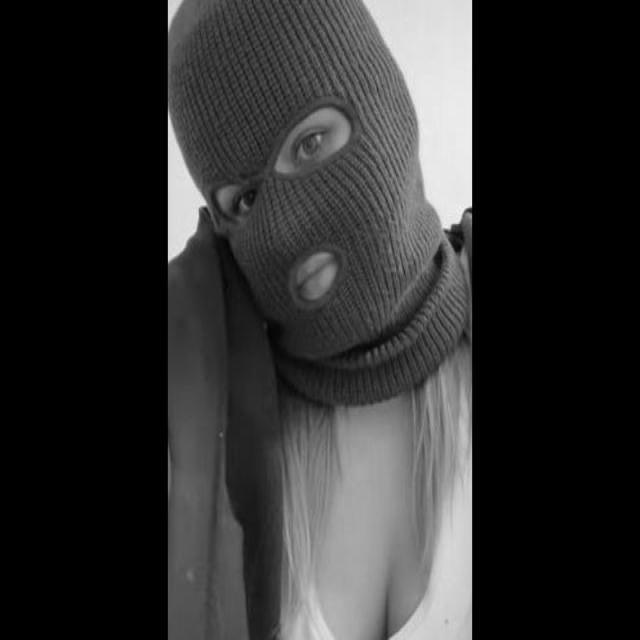6_pasamontana: (168, 0, 469, 405)
